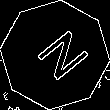N_SW: (23, 24, 87, 86)
